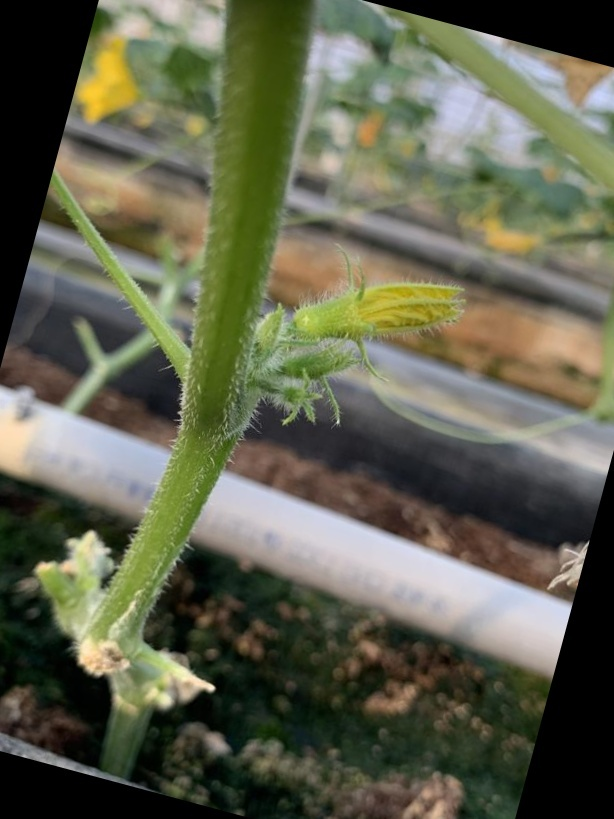bud: (291, 244, 471, 369)
